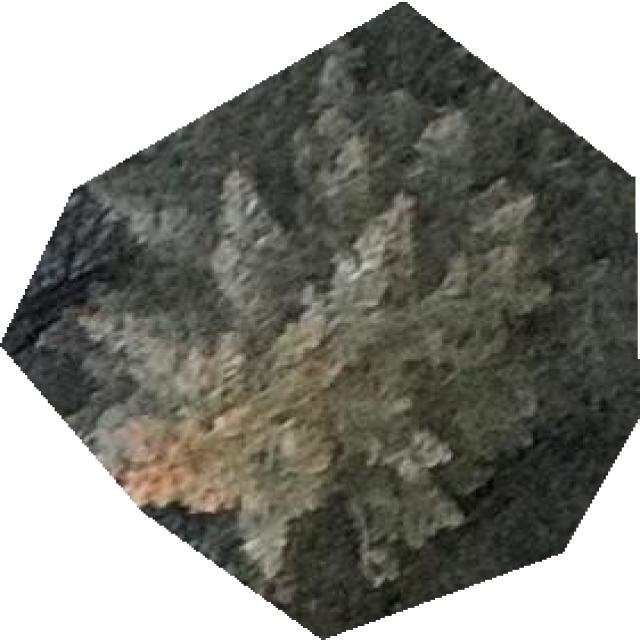spruce: (3, 4, 639, 637)
